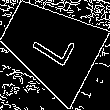L_NW: (23, 20, 77, 71)
